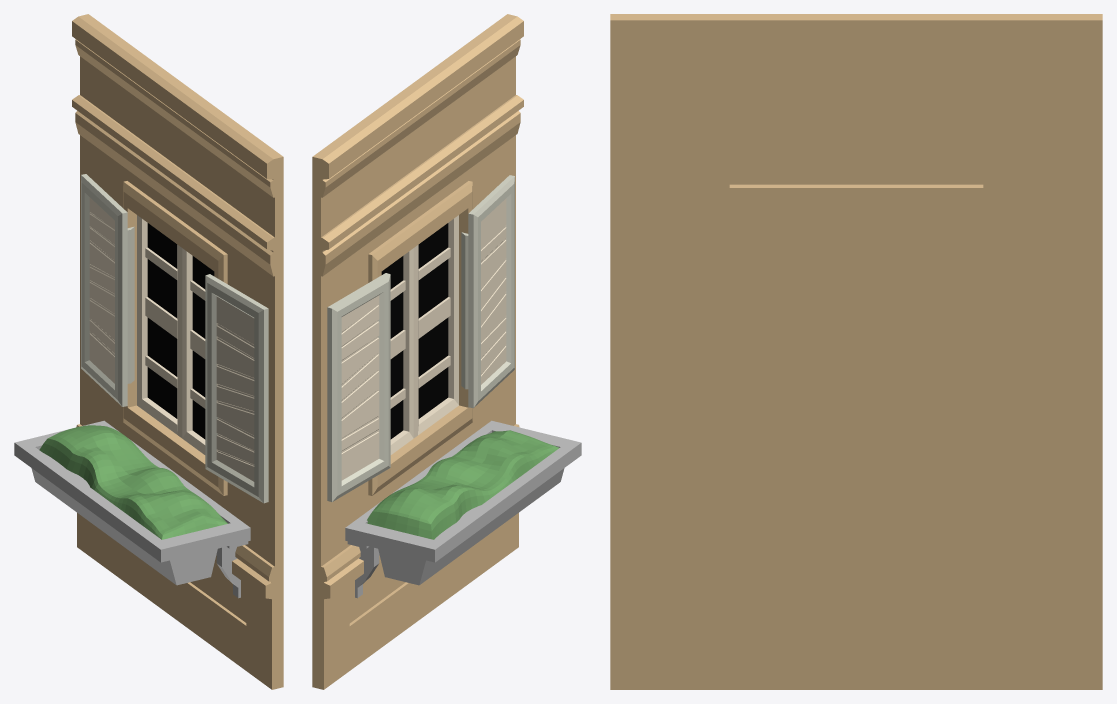
Rendered from WallHole_3_B.fbx.
3 renders of one model, left to right at view 1: azimuth 30°, elevation 25°; view 2: azimuth 150°, elevation 25°; view 3: azimuth 270°, elevation 25°, orthographic. The views are drawn at different scales.
Visible parts, largest first — view 1: WallHole_3_B; view 2: WallHole_3_B; view 3: WallHole_3_B.
Part boxes in pixels (left/top/right/bottom): WallHole_3_B: left=14, top=14, right=283, bottom=689; WallHole_3_B: left=312, top=14, right=581, bottom=689; WallHole_3_B: left=610, top=14, right=1102, bottom=689.
Size of the model in its own units: 61.65 by 200 by 300.
